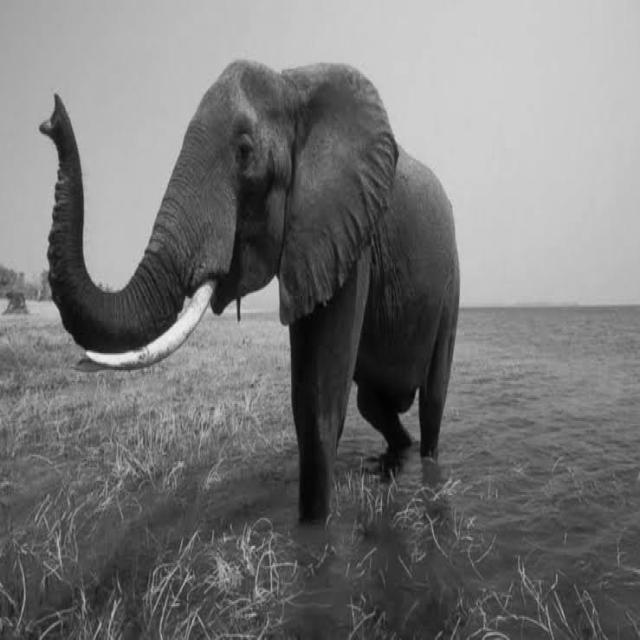Elephant: (38, 57, 461, 524)
